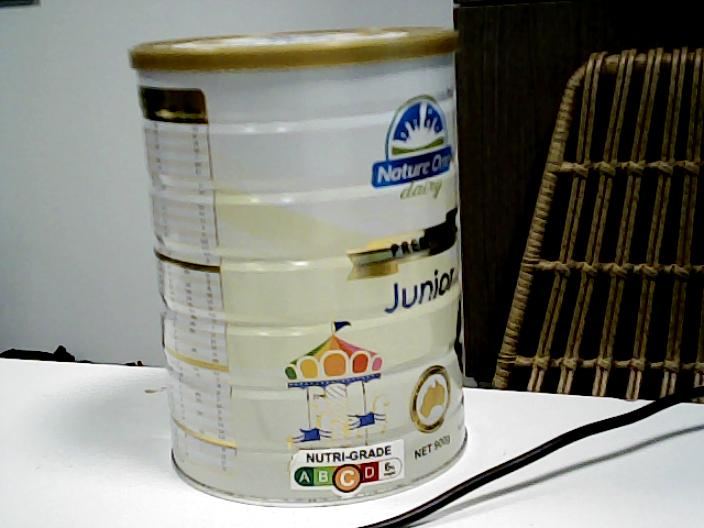Babymilk-powder_500-599g_NonHalal_NonHealthy: (127, 27, 472, 512)
